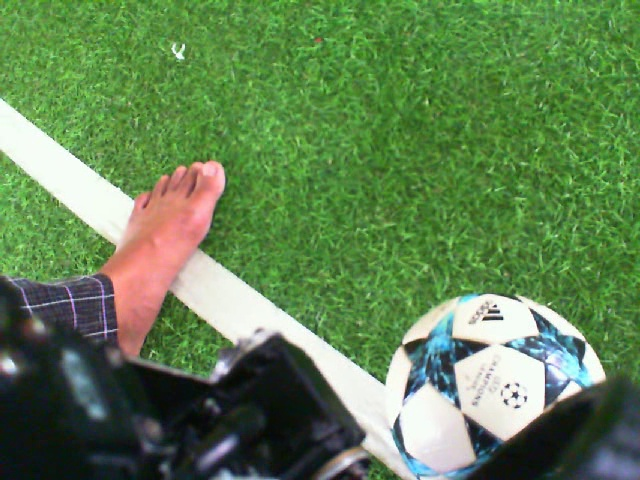ball: (383, 290, 608, 480)
